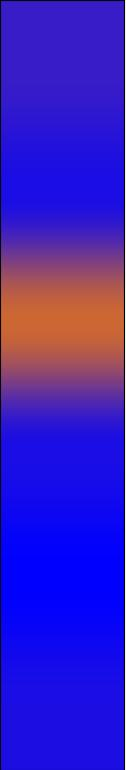critical: (14, 280, 110, 368)
safe: (16, 381, 109, 751), (9, 8, 118, 266)
